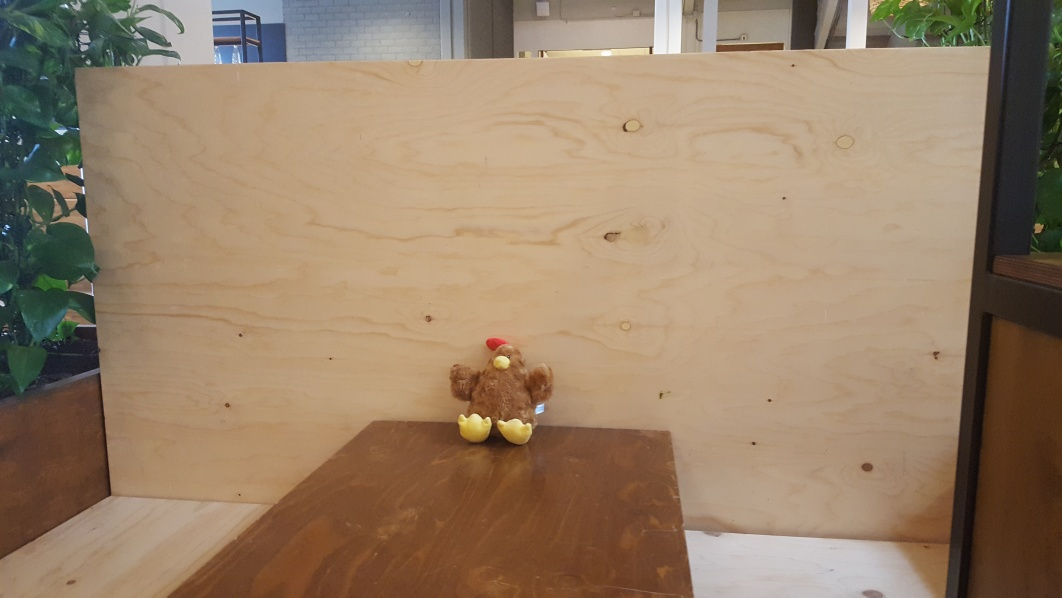chicken: (444, 336, 556, 447)
